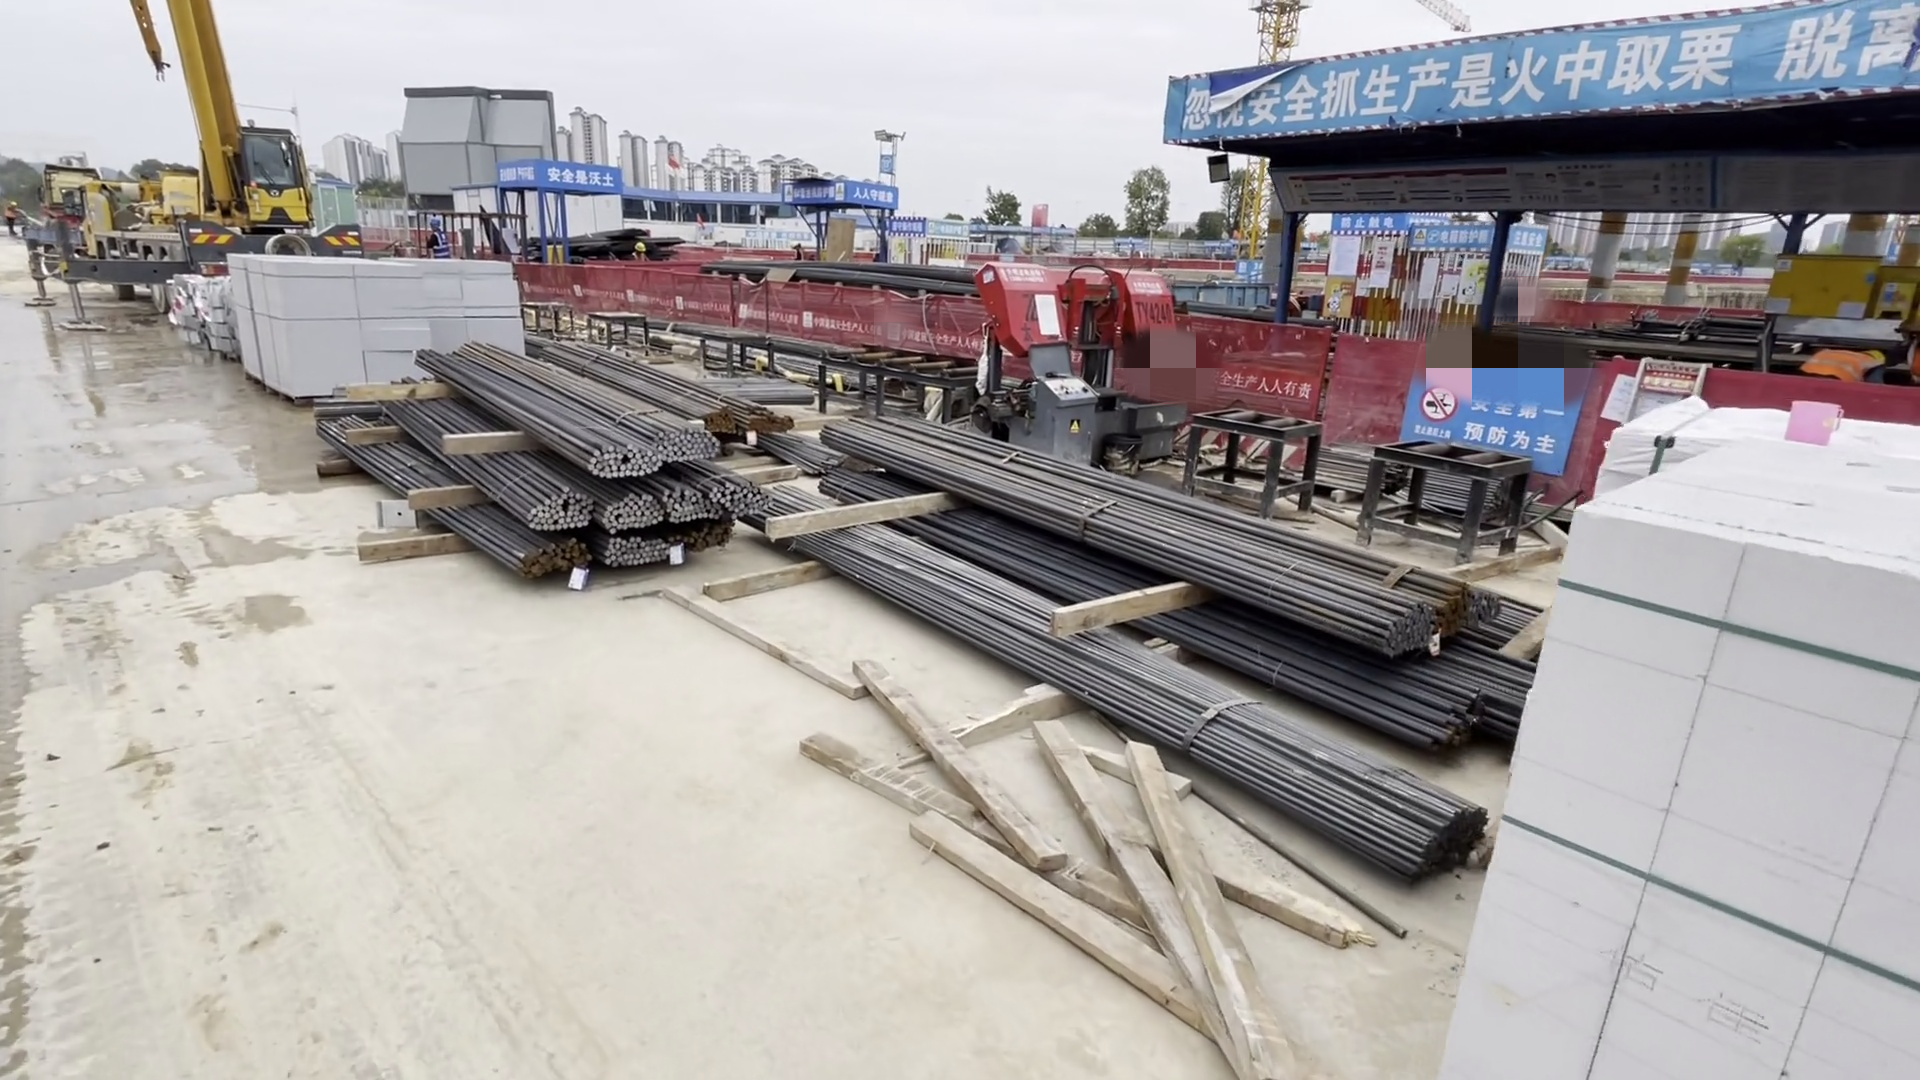brick: (1437, 378, 1917, 1080), (222, 249, 535, 409)
fence: (527, 253, 997, 382), (1215, 309, 1365, 442)
rebar: (746, 415, 1547, 905)
slogan: (1176, 7, 1913, 142), (1400, 367, 1576, 483), (1338, 216, 1553, 255), (493, 160, 621, 193), (781, 179, 895, 204)
